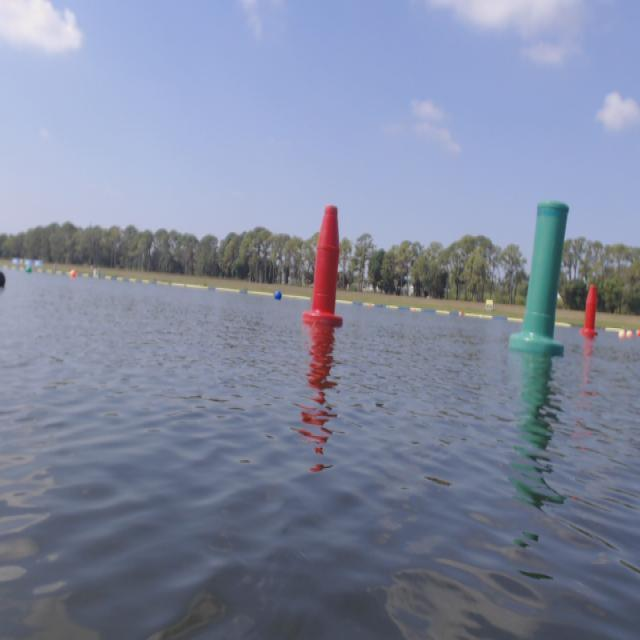Green_Buoy: (530, 203, 558, 352)
Red_Buoy: (320, 208, 340, 332), (582, 289, 598, 338)
